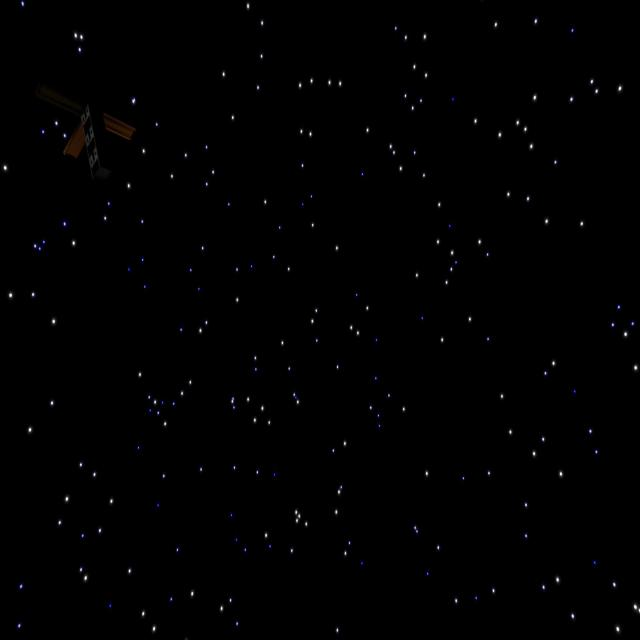satellite: (59, 100, 142, 190)
